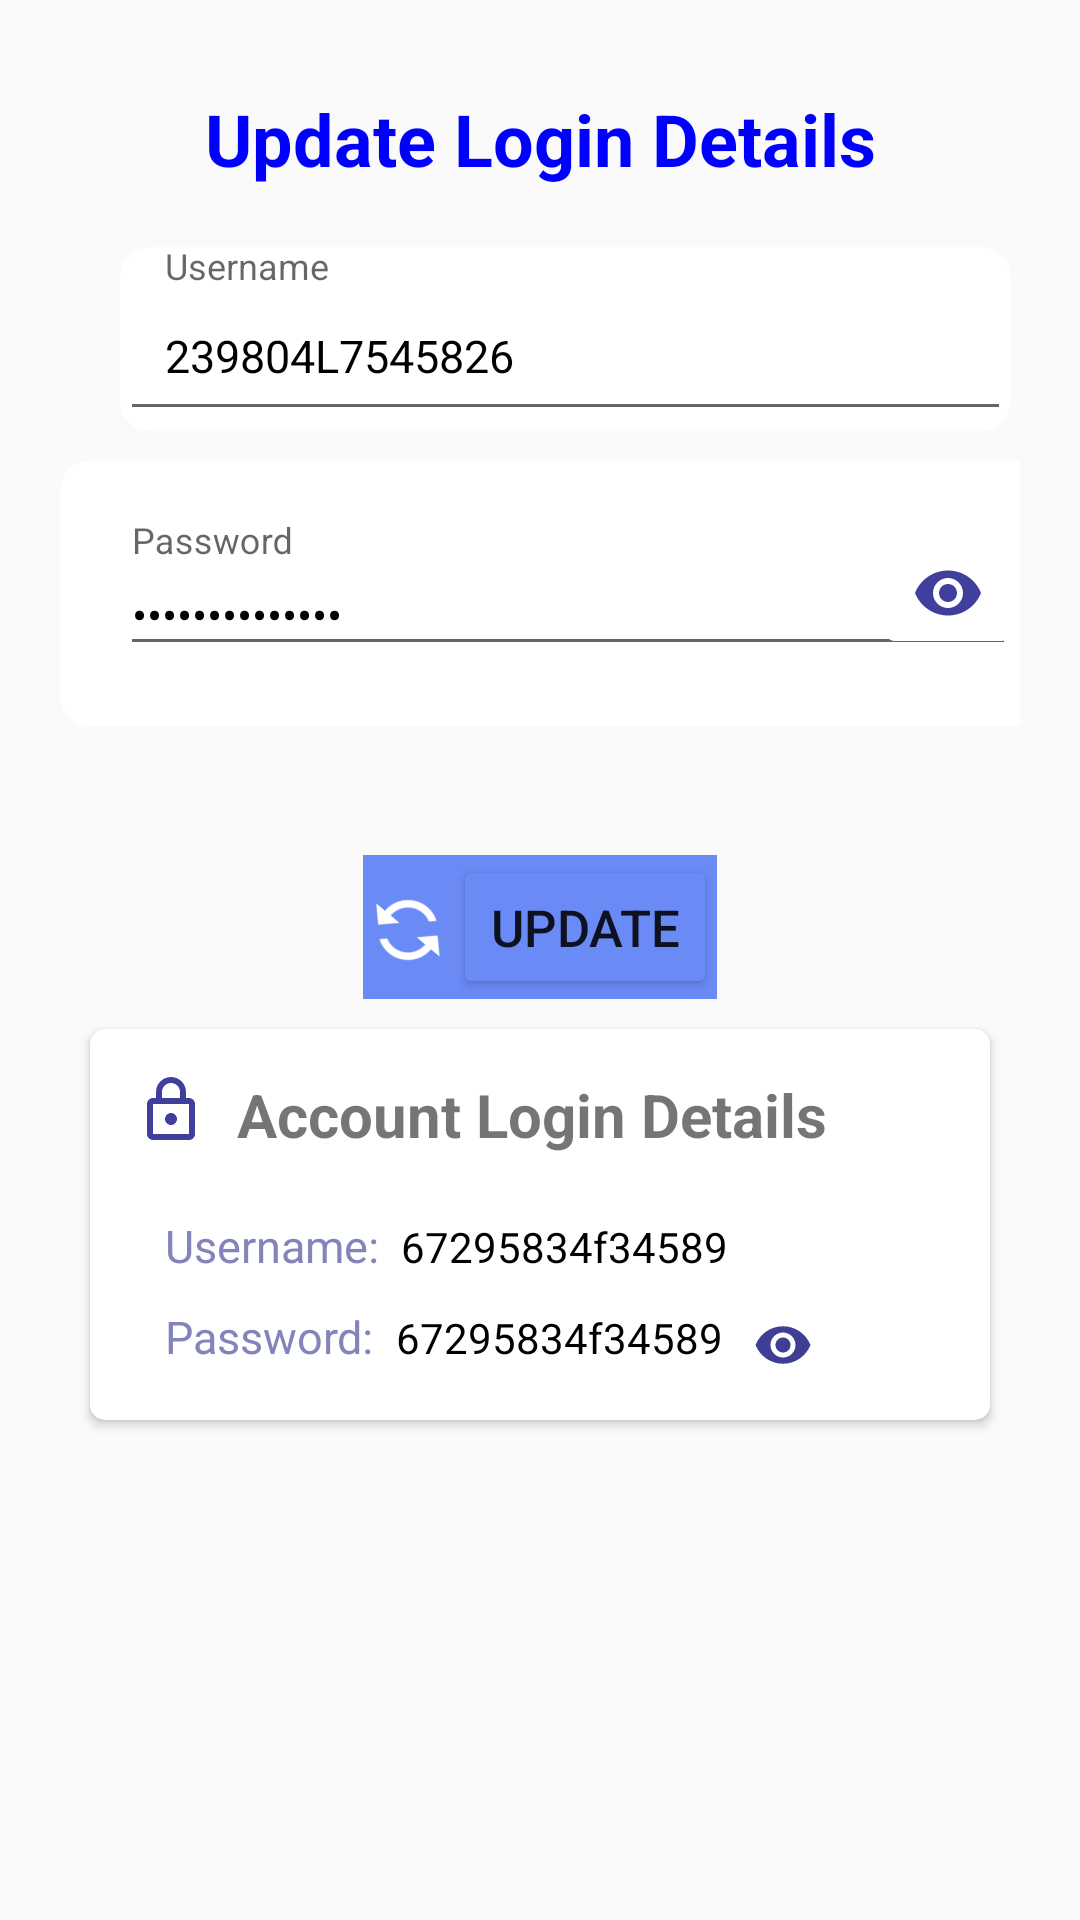

Where to tap for icons on this 1080px×1920px app screen, as point (x, y):
lock: point (171, 1108)
visibility: point (948, 593), point (783, 1345)
